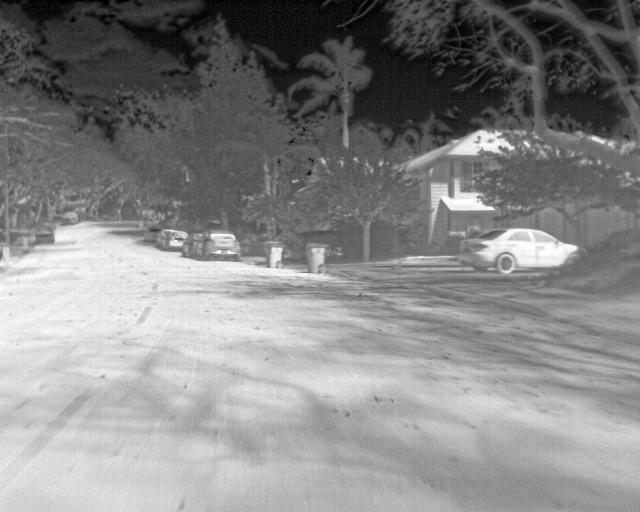car: (457, 225, 590, 275), (202, 229, 240, 260), (180, 232, 204, 258), (33, 223, 52, 242), (155, 225, 175, 243), (165, 230, 184, 247), (60, 209, 78, 223)
